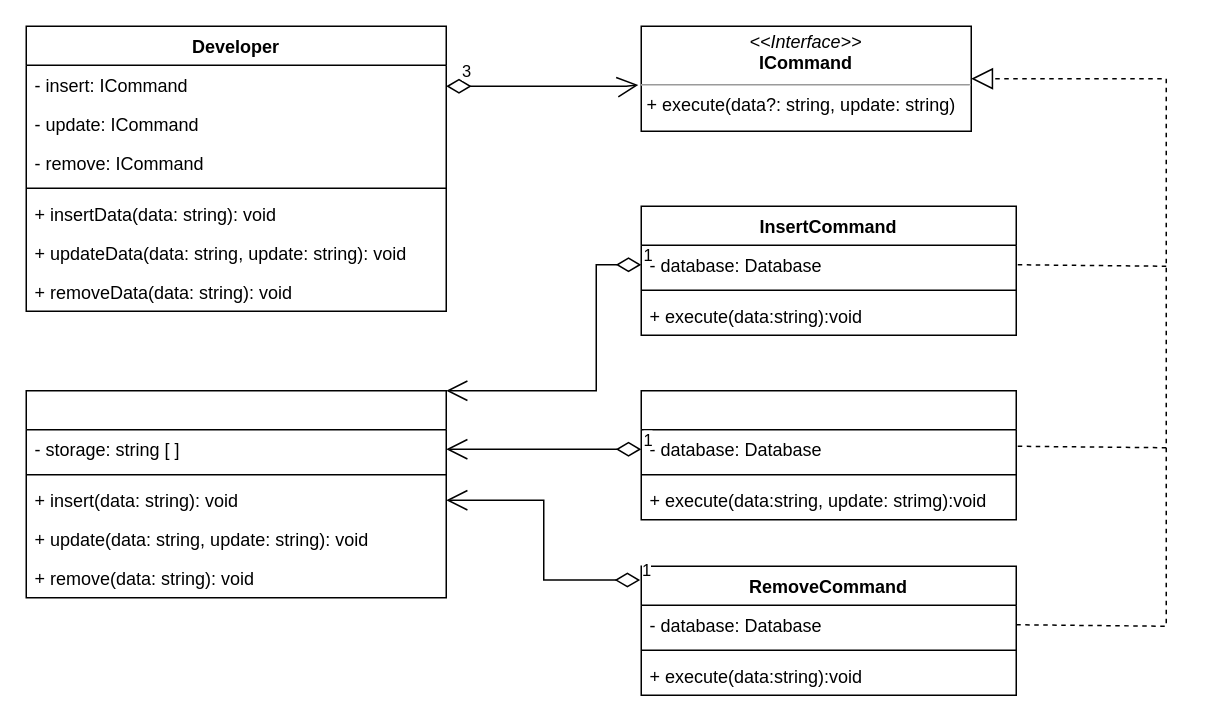
The diagram is 1214 pixels wide and 726 high, and some of its shapes have lost their labels. Here are the shapes that lost their labels. From the top down, the box of each, then its label:
(640, 389, 1016, 520): UpdateCommand
(25, 389, 446, 598): Database
